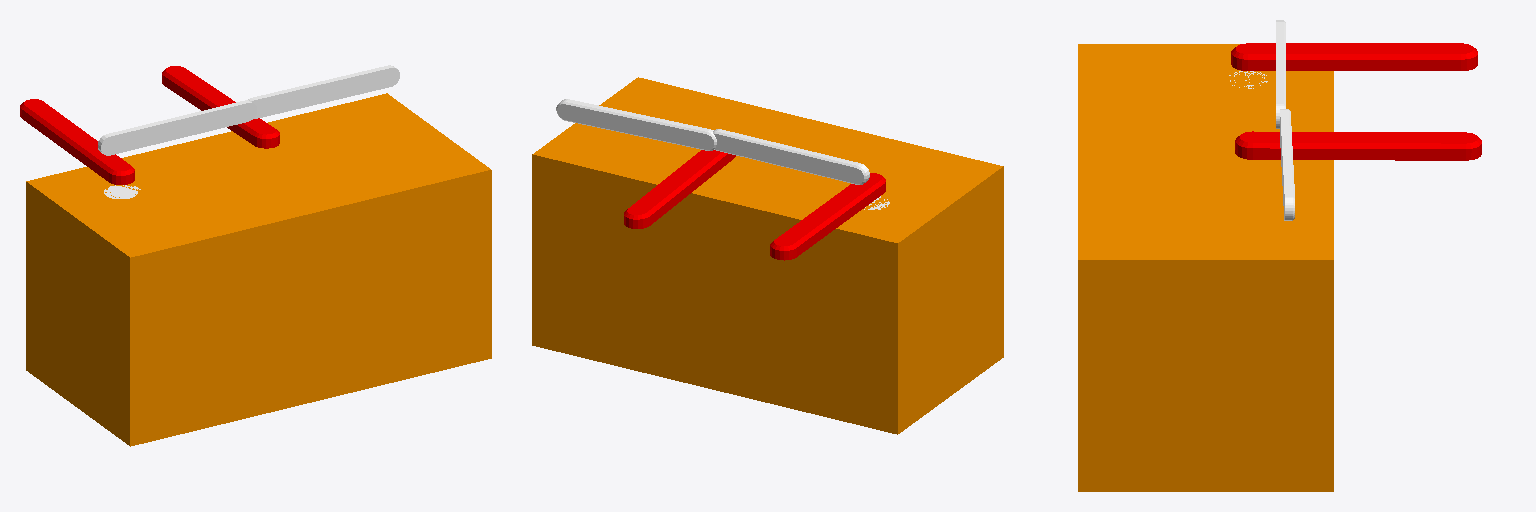
--- Render facts (derived) ---
3 views of the same robot in one strip: view 1: azimuth 30°, elevation 25°; view 2: azimuth 150°, elevation 25°; view 3: azimuth 270°, elevation 25° (orthographic).
Robot: dual — 17 links, 16 joints (12 revolute, 4 fixed); root link platform; default pose: all joints at 0.
Links seen in each view (by area): view 1: platform, right_link_1, right_link_2, left_link_2, left_link_1, right_link_3; view 2: platform, right_link_1, left_link_1, right_link_2, left_link_2; view 3: platform, left_link_1, right_link_1, left_link_2, right_link_2.
Boxes of the visible links, bbox=[...] form: platform: bbox=[26, 93, 491, 446]; right_link_1: bbox=[20, 99, 134, 184]; right_link_2: bbox=[98, 105, 238, 155]; left_link_2: bbox=[248, 71, 380, 118]; left_link_1: bbox=[162, 66, 279, 148]; right_link_3: bbox=[209, 100, 256, 128]; platform: bbox=[532, 77, 1003, 434]; right_link_1: bbox=[770, 173, 885, 260]; left_link_1: bbox=[624, 150, 735, 228]; right_link_2: bbox=[727, 134, 869, 184]; left_link_2: bbox=[576, 103, 716, 150]; platform: bbox=[1078, 44, 1333, 491]; left_link_1: bbox=[1235, 131, 1481, 160]; right_link_1: bbox=[1231, 43, 1477, 70]; left_link_2: bbox=[1280, 109, 1294, 185]; right_link_2: bbox=[1276, 20, 1285, 94].
Size in the robot's own frame: 1.2 by 0.9489 by 0.7501 metres.
Meshes: 8 distinct files referenced, 8 mesh visuals loaded (4 binary STL); not drawn: 8 (reference not matched to a file when rendering).

The robot description file, URDF, robot "dual":
<?xml version="1.0" ?>
<!-- =================================================================================== -->
<!-- |    This document was autogenerated by xacro from [local-path]/1008_catkin_ws/src/fzjd/urdf/jaka_gazebo.xacro | -->
<!-- |    EDITING THIS FILE BY HAND IS NOT RECOMMENDED                                 | -->
<!-- =================================================================================== -->
<robot name="dual">
    <material name="white">
        <color rgba="0.6 1 1 1" />
    </material>
    <material name="gripper_color">
        <color rgba="0.2 0.6 0.8 0.75" />
    </material>
    <material name="platform_color">
        <color rgba="1 0.6 0 0.9" />
    </material>
    <!-- <xacro:include filename="$(find zu7)/urdf/jaka_macro.xacro" ns="left"/>
    <xacro:left.jaka_robot prefix="left_"/> -->
    <!-- zu7模型在gazebo中不显示，应该是xacro模型配置的问题,先用两个同样的机械臂调试 -->
    <link name="left_base_link">
        
<inertial>
            <origin rpy="0 0 0" xyz="0.000965034909848577 0.0195530292148323 -7.27080869111029E-08" />
            <mass value="0.514609969031532" />
            <inertia ixx="0.000621364399247646" ixy="3.21692650554867E-06" ixz="-3.71184934823013E-09" iyy="0.0013529358522947" iyz="3.8977685173265E-11" izz="0.00086645249213919" />
        </inertial>

        <visual>
            <origin rpy="0 0 0" xyz="0 0 0" />
            <geometry>
                <mesh filename="package://jaka_zu7_v2/meshes/base_link.STL" />
            </geometry>
            <material name="">
                <color rgba="1 1 1 1" />
            </material>
        </visual>
        <collision>
            <origin rpy="0 0 0" xyz="0 0 0" />
            <geometry>
                <mesh filename="package://jaka_zu7_v2/meshes/base_link.STL" />
            </geometry>
        </collision>
    </link>
    <link name="left_link_1">
        
<inertial>
            <origin rpy="0 0 0" xyz="0.00332253130665769 0.0786385509598458 5.2958727998931E-08" />
            <mass value="1.92821258656447" />
            <inertia ixx="0.00548947482538057" ixy="1.93161087253844E-06" ixz="-2.06406149519604E-08" iyy="0.00388876051174381" iyz="-1.29468636322429E-08" izz="0.00564332197967477" />
        </inertial>

        <visual>
            <origin rpy="0 0 0" xyz="0 0 0" />
            <geometry>
                <mesh filename="package://jaka_zu7_v2/meshes/link_1.STL" />
            </geometry>
            <material name="">
                <color rgba="1 0 0 1" />
            </material>
        </visual>
        <collision>
            <origin rpy="0 0 0" xyz="0 0 0" />
            <geometry>
                <mesh filename="package://jaka_zu7_v2/meshes/link_1.STL" />
            </geometry>
        </collision>
    </link>
    <joint name="left_joint_1" type="revolute">
        <origin rpy="1.5707963267949 0 1.5707963267949" xyz="0 0 0.04" />
        <parent link="left_base_link" />
        <child link="left_link_1" />
        <axis xyz="0 1 0" />
        <limit effort="0" lower="-4.963716393" upper="4.963716393" velocity="3.14" />
    </joint>
    <link name="left_link_2">
        
<inertial>
            <origin rpy="0 0 0" xyz="0.179999937405946 0.0790752745504925 9.75081933252131E-09" />
            <mass value="5.46179073513085" />
            <inertia ixx="0.0129179479280493" ixy="-2.71044464180044E-08" ixz="-1.50487643543411E-08" iyy="0.138149394009534" iyz="-2.73361042997731E-09" izz="0.141659548589032" />
        </inertial>

        <visual>
            <origin rpy="0 0 0" xyz="0 0 0" />
            <geometry>
                <mesh filename="package://jaka_zu7_v2/meshes/link_2.STL" />
            </geometry>
            <material name="">
                <color rgba="1 1 1 1" />
            </material>
        </visual>
        <collision>
            <origin rpy="0 0 0" xyz="0 0 0" />
            <geometry>
                <mesh filename="package://jaka_zu7_v2/meshes/link_2.STL" />
            </geometry>
        </collision>
    </link>
    <joint name="left_joint_2" type="revolute">
        <origin rpy="-1.5707963267949 -1.5707963267949 0" xyz="0.064 0.0801499805565675 0" />
        <parent link="left_link_1" />
        <child link="left_link_2" />
        <axis xyz="0 -1 0" />
        <limit effort="0" lower="-1.171988593" upper="3.653846789" velocity="3.14" />
    </joint>
    <link name="left_link_3">
        
<inertial>
            <origin rpy="0 0 0" xyz="0.155128159726302 0.0514243418134301 -2.21667684600496E-05" />
            <mass value="2.10988248004298" />
            <inertia ixx="0.00267097214313929" ixy="-0.00234320623456127" ixz="2.68932154375193E-07" iyy="0.0354758560218789" iyz="-5.66886998256416E-09" izz="0.0361345568869166" />
        </inertial>

        <visual>
            <origin rpy="0 0 0" xyz="0 0 0" />
            <geometry>
                <mesh filename="package://jaka_zu7_v2/meshes/link_3.STL" />
            </geometry>
            <material name="">
                <color rgba="1 1 1 1" />
            </material>
        </visual>
        <collision>
            <origin rpy="0 0 0" xyz="0 0 0" />
            <geometry>
                <mesh filename="package://jaka_zu7_v2/meshes/link_3.STL" />
            </geometry>
        </collision>
    </link>
    <joint name="left_joint_3" type="revolute">
        <origin rpy="3.14159265358979 0 0" xyz="0.36 0 0" />
        <parent link="left_link_2" />
        <child link="left_link_3" />
        <axis xyz="0 1 0" />
        <limit effort="0" lower="-2.412917691" upper="2.412917691" velocity="3.14" />
    </joint>
    <link name="left_link_4">
        
<inertial>
            <origin rpy="0 0 0" xyz="0.0428277143121445 -0.00580000262750839 -2.15426459782009E-07" />
            <mass value="0.707389472258975" />
            <inertia ixx="0.00114244205941306" ixy="1.06377457242975E-05" ixz="-1.00655969113403E-08" iyy="0.000665673392092465" iyz="4.52474533922176E-09" izz="0.00117908344473012" />
        </inertial>

        <visual>
            <origin rpy="0 0 0" xyz="0 0 0" />
            <geometry>
                <mesh filename="package://jaka_zu7_v2/meshes/link_4.STL" />
            </geometry>
            <material name="">
                <color rgba="1 1 1 1" />
            </material>
        </visual>
        <collision>
            <origin rpy="0 0 0" xyz="0 0 0" />
            <geometry>
                <mesh filename="package://jaka_zu7_v2/meshes/link_4.STL" />
            </geometry>
        </collision>
    </link>
    <joint name="left_joint_4" type="revolute">
        <origin rpy="-1.5707963267949 0 -1.5707963267949" xyz="0.3035 -0.00551249887704253 0" />
        <parent link="left_link_3" />
        <child link="left_link_4" />
        <axis xyz="-1 0 0" />
        <limit effort="0" lower="-1.171988593" upper="3.653846789" velocity="3.14" />
    </joint>
    <link name="left_link_5">
        
<inertial>
            <origin rpy="0 0 0" xyz="-0.0431572815381937 0.00288955773134447 1.49710568941863E-07" />
            <mass value="0.806937512326124" />
            <inertia ixx="0.0016178075971003" ixy="5.79122309605624E-06" ixz="-2.27237716815389E-08" iyy="0.000744722110552353" iyz="6.4924718539349E-10" izz="0.00165512070235347" />
        </inertial>

        <visual>
            <origin rpy="0 0 0" xyz="0 0 0" />
            <geometry>
                <mesh filename="package://jaka_zu7_v2/meshes/link_5.STL" />
            </geometry>
            <material name="">
                <color rgba="1 0.1 0.1 1" />
            </material>
        </visual>
        <collision>
            <origin rpy="0 0 0" xyz="0 0 0" />
            <geometry>
                <mesh filename="package://jaka_zu7_v2/meshes/link_5.STL" />
            </geometry>
        </collision>
    </link>
    <joint name="left_joint_5" type="revolute">
        <origin rpy="3.141592653589793 0 1.5707963267949" xyz="0.0455 -0.068 0" />
        <parent link="left_link_4" />
        <child link="left_link_5" />
        <axis xyz="-1 0 0" />
        <limit effort="0" lower="-4.963716393" upper="4.963716393" velocity="3.14" />
    </joint>
    <link name="left_link_6">
        
<inertial>
            <origin rpy="-1.5707963267948966 0 0" xyz="-1.97890204940432E-05 -0.0177548861304407 2.35655774806776E-05" />
            <mass value="0.180494479521819" />
            <inertia ixx="9.15750415659571E-05" ixy="-3.15858980075031E-08" ixz="1.86044178570153E-07" iyy="0.000144413544278706" iyz="1.29636476465431E-07" izz="9.21528525921217E-05" />
        </inertial>

        <visual>
            <origin rpy="-1.5707963267948966 0 0" xyz="0 0 0" />
            <geometry>
                <mesh filename="package://jaka_zu7_v2/meshes/link_6.STL" />
            </geometry>
            <material name="">
                <color rgba="1 1 1 1" />
            </material>
        </visual>
        <collision>
            <origin rpy="-1.5707963267948966 0 0" xyz="0 0 0" />
            <geometry>
                <mesh filename="package://jaka_zu7_v2/meshes/link_6.STL" />
            </geometry>
        </collision>
    </link>
    <joint name="left_joint_6" type="revolute">
        <origin rpy="1.5707963267948966 1.5707963267948966 0" xyz="-0.0455 -0.068 0" />
        <parent link="left_link_5" />
        <child link="left_link_6" />
        <axis xyz="0 0 1" />
        <limit effort="0" lower="-4.963716393" upper="4.963716393" velocity="3.14" />
    </joint>
    <link name="right_base_link">
        
<inertial>
            <origin rpy="0 0 0" xyz="0.000965034909848577 0.0195530292148323 -7.27080869111029E-08" />
            <mass value="0.514609969031532" />
            <inertia ixx="0.000621364399247646" ixy="3.21692650554867E-06" ixz="-3.71184934823013E-09" iyy="0.0013529358522947" iyz="3.8977685173265E-11" izz="0.00086645249213919" />
        </inertial>

        <visual>
            <origin rpy="0 0 0" xyz="0 0 0" />
            <geometry>
                <mesh filename="package://jaka_zu7_v2/meshes/base_link.STL" />
            </geometry>
            <material name="">
                <color rgba="1 1 1 1" />
            </material>
        </visual>
        <collision>
            <origin rpy="0 0 0" xyz="0 0 0" />
            <geometry>
                <mesh filename="package://jaka_zu7_v2/meshes/base_link.STL" />
            </geometry>
        </collision>
    </link>
    <link name="right_link_1">
        
<inertial>
            <origin rpy="0 0 0" xyz="0.00332253130665769 0.0786385509598458 5.2958727998931E-08" />
            <mass value="1.92821258656447" />
            <inertia ixx="0.00548947482538057" ixy="1.93161087253844E-06" ixz="-2.06406149519604E-08" iyy="0.00388876051174381" iyz="-1.29468636322429E-08" izz="0.00564332197967477" />
        </inertial>

        <visual>
            <origin rpy="0 0 0" xyz="0 0 0" />
            <geometry>
                <mesh filename="package://jaka_zu7_v2/meshes/link_1.STL" />
            </geometry>
            <material name="">
                <color rgba="1 0 0 1" />
            </material>
        </visual>
        <collision>
            <origin rpy="0 0 0" xyz="0 0 0" />
            <geometry>
                <mesh filename="package://jaka_zu7_v2/meshes/link_1.STL" />
            </geometry>
        </collision>
    </link>
    <joint name="right_joint_1" type="revolute">
        <origin rpy="1.5707963267949 0 1.5707963267949" xyz="0 0 0.04" />
        <parent link="right_base_link" />
        <child link="right_link_1" />
        <axis xyz="0 1 0" />
        <limit effort="0" lower="-4.963716393" upper="4.963716393" velocity="3.14" />
    </joint>
    <link name="right_link_2">
        
<inertial>
            <origin rpy="0 0 0" xyz="0.179999937405946 0.0790752745504925 9.75081933252131E-09" />
            <mass value="5.46179073513085" />
            <inertia ixx="0.0129179479280493" ixy="-2.71044464180044E-08" ixz="-1.50487643543411E-08" iyy="0.138149394009534" iyz="-2.73361042997731E-09" izz="0.141659548589032" />
        </inertial>

        <visual>
            <origin rpy="0 0 0" xyz="0 0 0" />
            <geometry>
                <mesh filename="package://jaka_zu7_v2/meshes/link_2.STL" />
            </geometry>
            <material name="">
                <color rgba="1 1 1 1" />
            </material>
        </visual>
        <collision>
            <origin rpy="0 0 0" xyz="0 0 0" />
            <geometry>
                <mesh filename="package://jaka_zu7_v2/meshes/link_2.STL" />
            </geometry>
        </collision>
    </link>
    <joint name="right_joint_2" type="revolute">
        <origin rpy="-1.5707963267949 -1.5707963267949 0" xyz="0.064 0.0801499805565675 0" />
        <parent link="right_link_1" />
        <child link="right_link_2" />
        <axis xyz="0 -1 0" />
        <limit effort="0" lower="-1.171988593" upper="3.653846789" velocity="3.14" />
    </joint>
    <link name="right_link_3">
        
<inertial>
            <origin rpy="0 0 0" xyz="0.155128159726302 0.0514243418134301 -2.21667684600496E-05" />
            <mass value="2.10988248004298" />
            <inertia ixx="0.00267097214313929" ixy="-0.00234320623456127" ixz="2.68932154375193E-07" iyy="0.0354758560218789" iyz="-5.66886998256416E-09" izz="0.0361345568869166" />
        </inertial>

        <visual>
            <origin rpy="0 0 0" xyz="0 0 0" />
            <geometry>
                <mesh filename="package://jaka_zu7_v2/meshes/link_3.STL" />
            </geometry>
            <material name="">
                <color rgba="1 1 1 1" />
            </material>
        </visual>
        <collision>
            <origin rpy="0 0 0" xyz="0 0 0" />
            <geometry>
                <mesh filename="package://jaka_zu7_v2/meshes/link_3.STL" />
            </geometry>
        </collision>
    </link>
    <joint name="right_joint_3" type="revolute">
        <origin rpy="3.14159265358979 0 0" xyz="0.36 0 0" />
        <parent link="right_link_2" />
        <child link="right_link_3" />
        <axis xyz="0 1 0" />
        <limit effort="0" lower="-2.412917691" upper="2.412917691" velocity="3.14" />
    </joint>
    <link name="right_link_4">
        
<inertial>
            <origin rpy="0 0 0" xyz="0.0428277143121445 -0.00580000262750839 -2.15426459782009E-07" />
            <mass value="0.707389472258975" />
            <inertia ixx="0.00114244205941306" ixy="1.06377457242975E-05" ixz="-1.00655969113403E-08" iyy="0.000665673392092465" iyz="4.52474533922176E-09" izz="0.00117908344473012" />
        </inertial>

        <visual>
            <origin rpy="0 0 0" xyz="0 0 0" />
            <geometry>
                <mesh filename="package://jaka_zu7_v2/meshes/link_4.STL" />
            </geometry>
            <material name="">
                <color rgba="1 1 1 1" />
            </material>
        </visual>
        <collision>
            <origin rpy="0 0 0" xyz="0 0 0" />
            <geometry>
                <mesh filename="package://jaka_zu7_v2/meshes/link_4.STL" />
            </geometry>
        </collision>
    </link>
    <joint name="right_joint_4" type="revolute">
        <origin rpy="-1.5707963267949 0 -1.5707963267949" xyz="0.3035 -0.00551249887704253 0" />
        <parent link="right_link_3" />
        <child link="right_link_4" />
        <axis xyz="-1 0 0" />
        <limit effort="0" lower="-1.171988593" upper="3.653846789" velocity="3.14" />
    </joint>
    <link name="right_link_5">
        
<inertial>
            <origin rpy="0 0 0" xyz="-0.0431572815381937 0.00288955773134447 1.49710568941863E-07" />
            <mass value="0.806937512326124" />
            <inertia ixx="0.0016178075971003" ixy="5.79122309605624E-06" ixz="-2.27237716815389E-08" iyy="0.000744722110552353" iyz="6.4924718539349E-10" izz="0.00165512070235347" />
        </inertial>

        <visual>
            <origin rpy="0 0 0" xyz="0 0 0" />
            <geometry>
                <mesh filename="package://jaka_zu7_v2/meshes/link_5.STL" />
            </geometry>
            <material name="">
                <color rgba="1 0.1 0.1 1" />
            </material>
        </visual>
        <collision>
            <origin rpy="0 0 0" xyz="0 0 0" />
            <geometry>
                <mesh filename="package://jaka_zu7_v2/meshes/link_5.STL" />
            </geometry>
        </collision>
    </link>
    <joint name="right_joint_5" type="revolute">
        <origin rpy="3.141592653589793 0 1.5707963267949" xyz="0.0455 -0.068 0" />
        <parent link="right_link_4" />
        <child link="right_link_5" />
        <axis xyz="-1 0 0" />
        <limit effort="0" lower="-4.963716393" upper="4.963716393" velocity="3.14" />
    </joint>
    <link name="right_link_6">
        
<inertial>
            <origin rpy="-1.5707963267948966 0 0" xyz="-1.97890204940432E-05 -0.0177548861304407 2.35655774806776E-05" />
            <mass value="0.180494479521819" />
            <inertia ixx="9.15750415659571E-05" ixy="-3.15858980075031E-08" ixz="1.86044178570153E-07" iyy="0.000144413544278706" iyz="1.29636476465431E-07" izz="9.21528525921217E-05" />
        </inertial>

        <visual>
            <origin rpy="-1.5707963267948966 0 0" xyz="0 0 0" />
            <geometry>
                <mesh filename="package://jaka_zu7_v2/meshes/link_6.STL" />
            </geometry>
            <material name="">
                <color rgba="1 1 1 1" />
            </material>
        </visual>
        <collision>
            <origin rpy="-1.5707963267948966 0 0" xyz="0 0 0" />
            <geometry>
                <mesh filename="package://jaka_zu7_v2/meshes/link_6.STL" />
            </geometry>
        </collision>
    </link>
    <joint name="right_joint_6" type="revolute">
        <origin rpy="1.5707963267948966 1.5707963267948966 0" xyz="-0.0455 -0.068 0" />
        <parent link="right_link_5" />
        <child link="right_link_6" />
        <axis xyz="0 0 1" />
        <limit effort="0" lower="-4.963716393" upper="4.963716393" velocity="3.14" />
    </joint>
    <joint name="left_to_right" type="fixed">
        <parent link="right_base_link" />
        <child link="left_base_link" />
        <origin rpy="-0.015272913100903103 0.01866994910995618 0.02274242853030429" xyz="0.48622462  0.0084934  -0.00136687" />
    </joint>
    <link name="right_gripper_base_link">
        <visual>
            <geometry>
                <mesh filename="package://jaka_zu7_v2/meshes/gripper-raw.STL" />
            </geometry>
            <material name="gripper_color" />
        </visual>
        <collision>
            <geometry>
                <mesh filename="package://jaka_zu7_v2/meshes/gripper-raw.STL" />
            </geometry>
        </collision>
        
<inertial>
            <mass value="0.1" />
            <inertia ixx="0.03" iyy="0.03" izz="0.03" ixy="0.0" ixz="0.0" iyz="0.0" />
        </inertial>

    </link>
    <joint name="right_ee_joint" type="fixed">
        <parent link="right_link_6" />
        <child link="right_gripper_base_link" />
        <origin rpy="0 0 0" xyz="0 0 0.039" />
    </joint>
    <link name="left_gripper_base_link">
        <visual>
            <geometry>
                <mesh filename="package://jaka_zu7_v2/meshes/gripper-raw.STL" />
            </geometry>
            <material name="gripper_color" />
        </visual>
        <collision>
            <geometry>
                <mesh filename="package://jaka_zu7_v2/meshes/gripper-raw.STL" />
            </geometry>
        </collision>
        
<inertial>
            <mass value="0.1" />
            <inertia ixx="0.03" iyy="0.03" izz="0.03" ixy="0.0" ixz="0.0" iyz="0.0" />
        </inertial>

    </link>
    <joint name="left_ee_joint" type="fixed">
        <parent link="left_link_6" />
        <child link="left_gripper_base_link" />
        <origin rpy="0 0 0" xyz="0 0 0.0355" />
    </joint>
    <link name="platform">
        <visual>
            <geometry>
                <box size="1.2 0.6 0.6" />
            </geometry>
            <material name="platform_color" />
            <origin xyz="0 0 0" />
        </visual>
        <collision>
            <geometry>
                <box size="1.2 0.6 0.6" />
            </geometry>
            <origin xyz="0 0 0" />
        </collision>
        
<inertial>
            <origin rpy="0.0 0.0 0.0" xyz="0.0 0.0 0.0" />
            <mass value="500" />
            <inertia ixx="30" ixy="0.0" ixz="0.0" iyy="75" iyz="0.0" izz="75" />
        </inertial>

    </link>
    <joint name="right_to_platform" type="fixed">
        <parent link="platform" />
        <child link="right_base_link" />
        <origin xyz="-0.4 0.1 0.3" />
    </joint>
    
<transmission name="trans_left_joint_1">
        <type>transmission_interface/SimpleTransmission</type>
        <joint name="left_joint_1">
            <hardwareInterface>hardware_interface/PositionJointInterface</hardwareInterface>
        </joint>
        <actuator name="left_joint_1_motor">
            <hardwareInterface>hardware_interface/PositionJointInterface</hardwareInterface>
            <mechanicalReduction>1</mechanicalReduction>
        </actuator>
    </transmission>
    <transmission name="trans_left_joint_2">
        <type>transmission_interface/SimpleTransmission</type>
        <joint name="left_joint_2">
            <hardwareInterface>hardware_interface/PositionJointInterface</hardwareInterface>
        </joint>
        <actuator name="left_joint_2_motor">
            <hardwareInterface>hardware_interface/PositionJointInterface</hardwareInterface>
            <mechanicalReduction>1</mechanicalReduction>
        </actuator>
    </transmission>
    <transmission name="trans_left_joint_3">
        <type>transmission_interface/SimpleTransmission</type>
        <joint name="left_joint_3">
            <hardwareInterface>hardware_interface/PositionJointInterface</hardwareInterface>
        </joint>
        <actuator name="left_joint_3_motor">
            <hardwareInterface>hardware_interface/PositionJointInterface</hardwareInterface>
            <mechanicalReduction>1</mechanicalReduction>
        </actuator>
    </transmission>
    <transmission name="trans_left_joint_4">
        <type>transmission_interface/SimpleTransmission</type>
        <joint name="left_joint_4">
            <hardwareInterface>hardware_interface/PositionJointInterface</hardwareInterface>
        </joint>
        <actuator name="left_joint_4_motor">
            <hardwareInterface>hardware_interface/PositionJointInterface</hardwareInterface>
            <mechanicalReduction>1</mechanicalReduction>
        </actuator>
    </transmission>
    <transmission name="trans_left_joint_5">
        <type>transmission_interface/SimpleTransmission</type>
        <joint name="left_joint_5">
            <hardwareInterface>hardware_interface/PositionJointInterface</hardwareInterface>
        </joint>
        <actuator name="left_joint_5_motor">
            <hardwareInterface>hardware_interface/PositionJointInterface</hardwareInterface>
            <mechanicalReduction>1</mechanicalReduction>
        </actuator>
    </transmission>
    <transmission name="trans_left_joint_6">
        <type>transmission_interface/SimpleTransmission</type>
        <joint name="left_joint_6">
            <hardwareInterface>hardware_interface/PositionJointInterface</hardwareInterface>
        </joint>
        <actuator name="left_joint_6_motor">
            <hardwareInterface>hardware_interface/PositionJointInterface</hardwareInterface>
            <mechanicalReduction>1</mechanicalReduction>
        </actuator>
    </transmission>
    <transmission name="trans_right_joint_1">
        <type>transmission_interface/SimpleTransmission</type>
        <joint name="right_joint_1">
            <hardwareInterface>hardware_interface/PositionJointInterface</hardwareInterface>
        </joint>
        <actuator name="right_joint_1_motor">
            <hardwareInterface>hardware_interface/PositionJointInterface</hardwareInterface>
            <mechanicalReduction>1</mechanicalReduction>
        </actuator>
    </transmission>
    <transmission name="trans_right_joint_2">
        <type>transmission_interface/SimpleTransmission</type>
        <joint name="right_joint_2">
            <hardwareInterface>hardware_interface/PositionJointInterface</hardwareInterface>
        </joint>
        <actuator name="right_joint_2_motor">
            <hardwareInterface>hardware_interface/PositionJointInterface</hardwareInterface>
            <mechanicalReduction>1</mechanicalReduction>
        </actuator>
    </transmission>
    <transmission name="trans_right_joint_3">
        <type>transmission_interface/SimpleTransmission</type>
        <joint name="right_joint_3">
            <hardwareInterface>hardware_interface/PositionJointInterface</hardwareInterface>
        </joint>
        <actuator name="right_joint_3_motor">
            <hardwareInterface>hardware_interface/PositionJointInterface</hardwareInterface>
            <mechanicalReduction>1</mechanicalReduction>
        </actuator>
    </transmission>
    <transmission name="trans_right_joint_4">
        <type>transmission_interface/SimpleTransmission</type>
        <joint name="right_joint_4">
            <hardwareInterface>hardware_interface/PositionJointInterface</hardwareInterface>
        </joint>
        <actuator name="right_joint_4_motor">
            <hardwareInterface>hardware_interface/PositionJointInterface</hardwareInterface>
            <mechanicalReduction>1</mechanicalReduction>
        </actuator>
    </transmission>
    <transmission name="trans_right_joint_5">
        <type>transmission_interface/SimpleTransmission</type>
        <joint name="right_joint_5">
            <hardwareInterface>hardware_interface/PositionJointInterface</hardwareInterface>
        </joint>
        <actuator name="right_joint_5_motor">
            <hardwareInterface>hardware_interface/PositionJointInterface</hardwareInterface>
            <mechanicalReduction>1</mechanicalReduction>
        </actuator>
    </transmission>
    <transmission name="trans_right_joint_6">
        <type>transmission_interface/SimpleTransmission</type>
        <joint name="right_joint_6">
            <hardwareInterface>hardware_interface/PositionJointInterface</hardwareInterface>
        </joint>
        <actuator name="right_joint_6_motor">
            <hardwareInterface>hardware_interface/PositionJointInterface</hardwareInterface>
            <mechanicalReduction>1</mechanicalReduction>
        </actuator>
    </transmission>
    <gazebo>
        <plugin name="gazebo_ros_control" filename="libgazebo_ros_control.so">
            <robotNamespace>/</robotNamespace>
        </plugin>
    </gazebo>
</robot>
